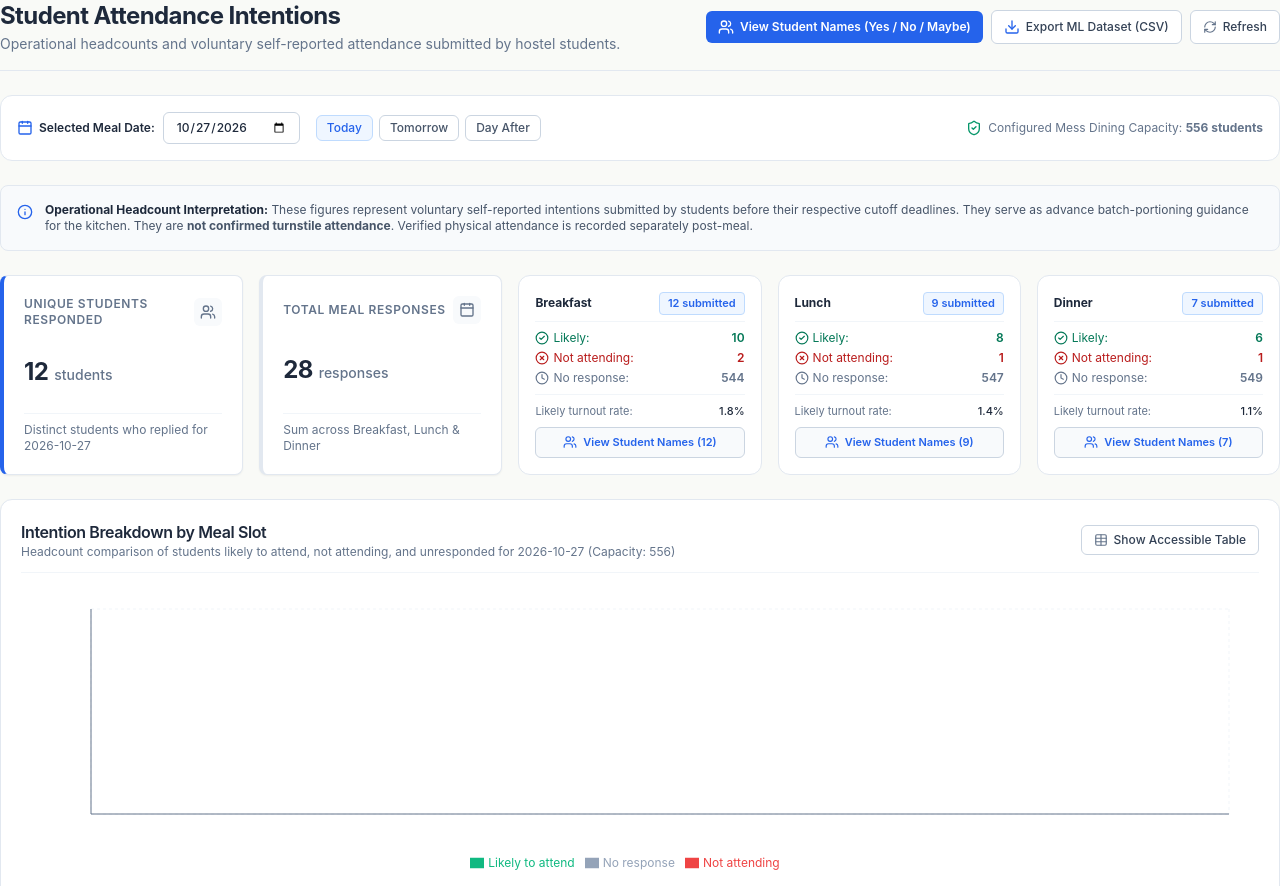
Test case: ManagerIntentions page component › toggles between chart view and accessible data table
The image size is (1280, 886).
Click the button "Show Accessible Table".
click(1170, 540)  # box [1081,524,1259,554]
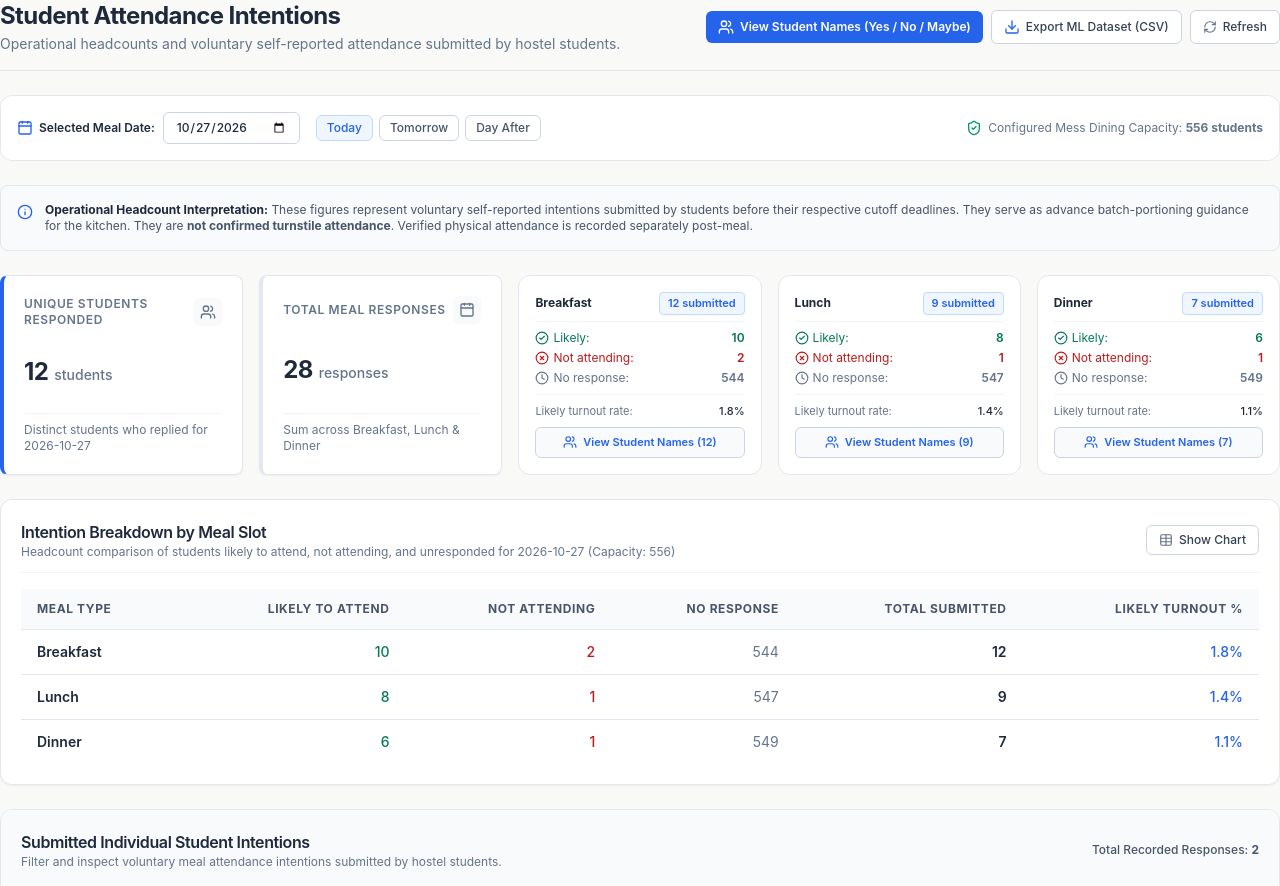
Expected: the column heading "Likely to Attend" is shown, [178,588,406,629]
Now the column heading "Likely Turnout %" is shown, box [1023,588,1259,629]
Now the button "Show Chart" is shown
Click the button "Show Chart".
click(1203, 540)  # box [1146,524,1259,554]
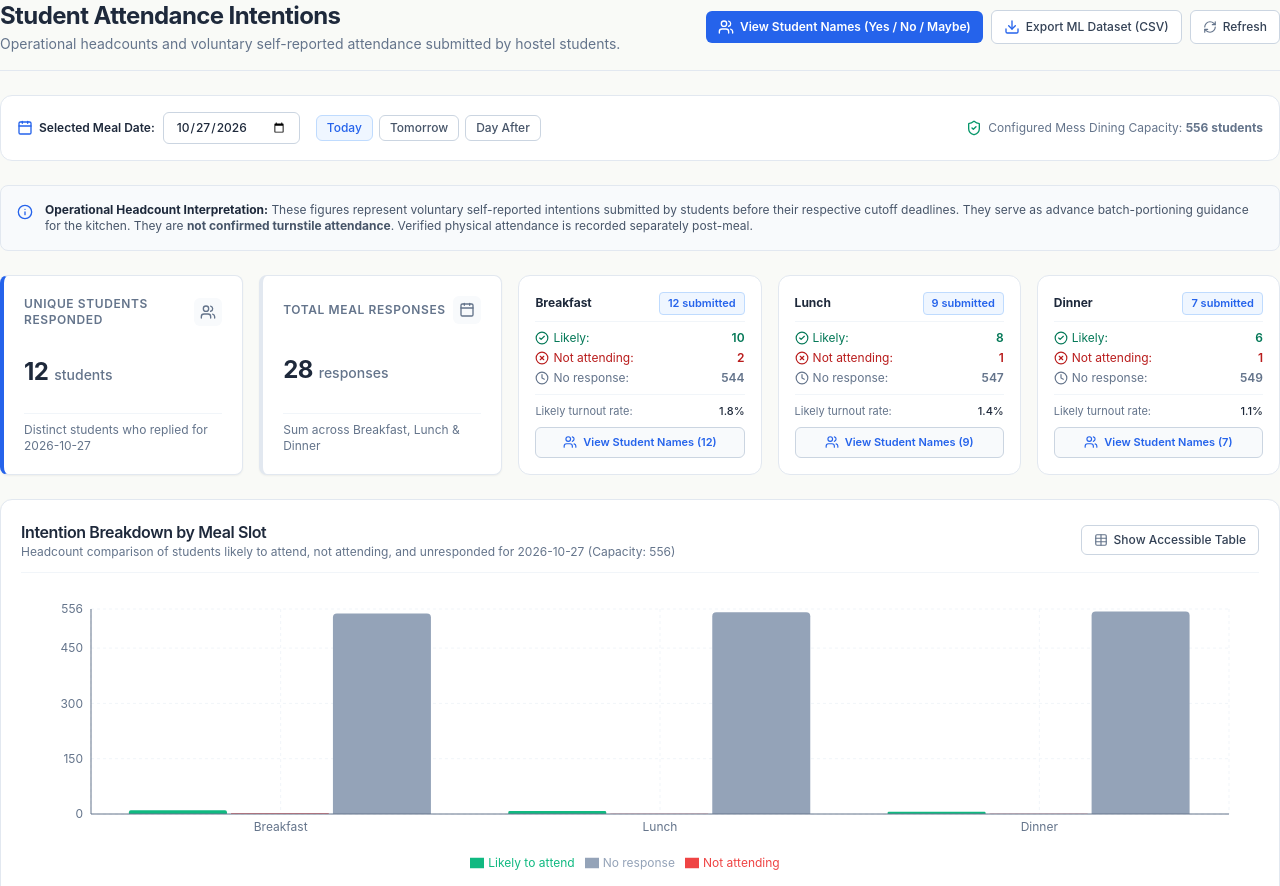
Now the button "Show Accessible Table" is shown, box [1081,524,1259,554]
